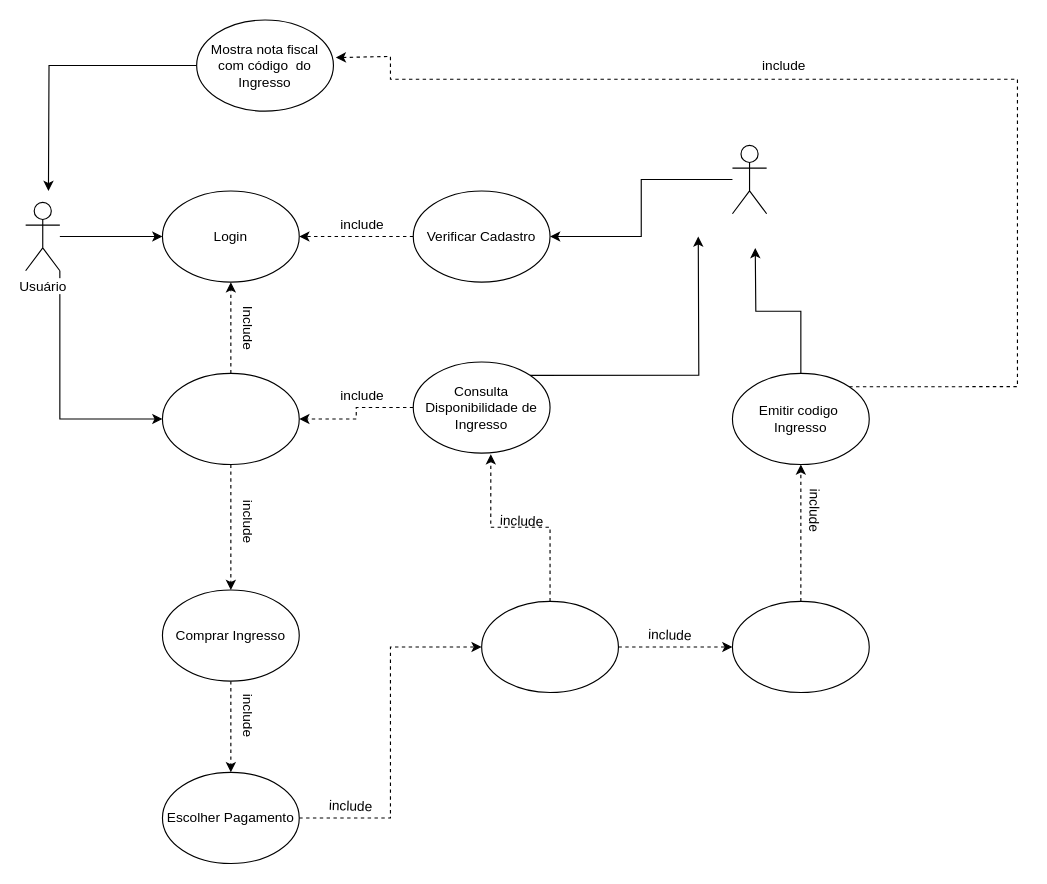
Some shapes in this 1047 by 884 pixel diagram are drawn without their labels. The shapes that lost their labels are listed below. From the top down, each one's centre as x and y in pixels, then its label:
At (749,179): "Banco de Dados".
At (230,418): "Selecionar Tipo Ingresso".
At (549,646): "Efetuar Pagamento".
At (800,646): "Verificação de Pagamento".
